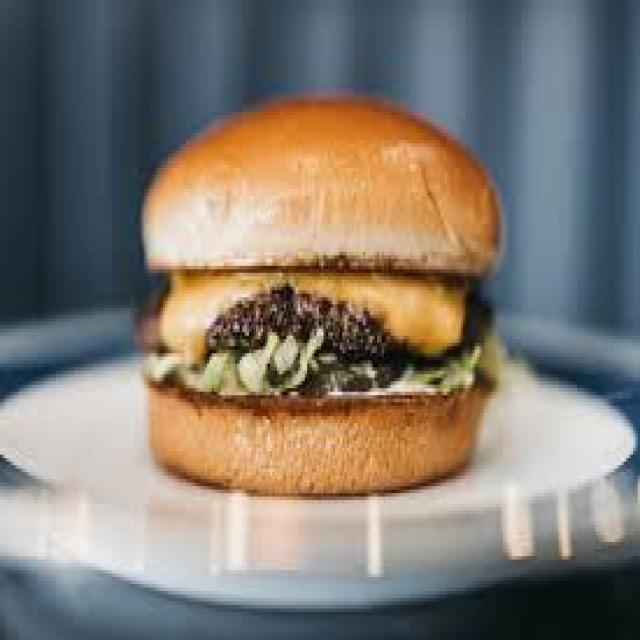Burger: (149, 127, 509, 477)
